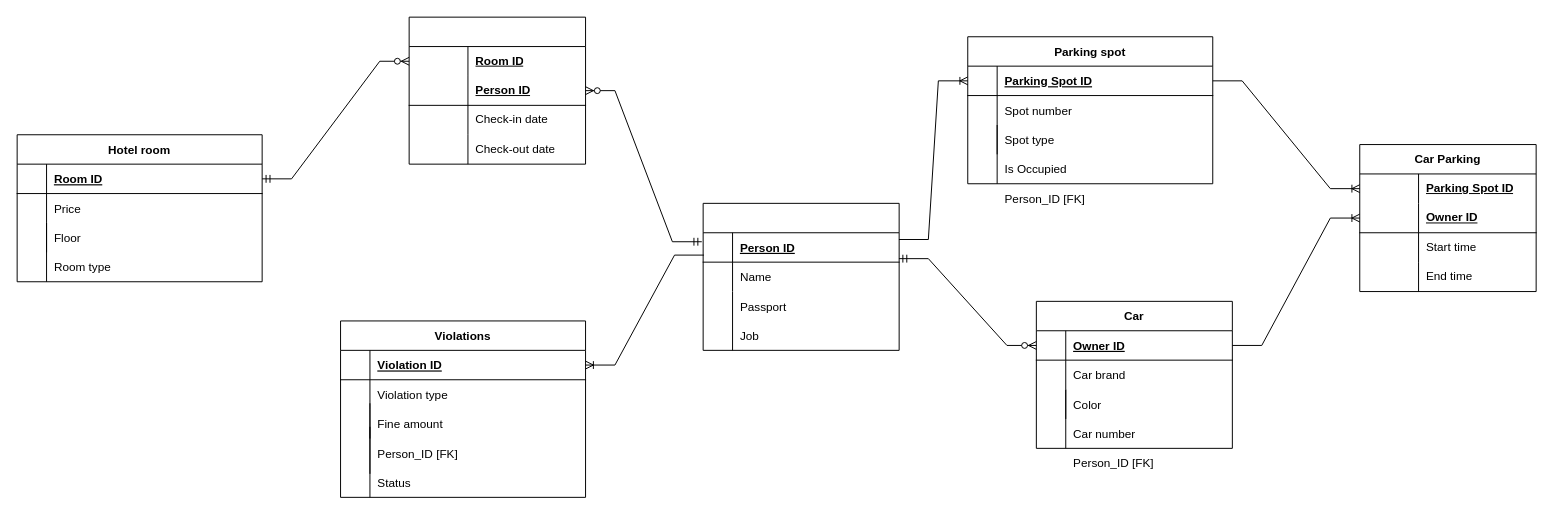
Image size: 1553x515. Some labels were removed from this diagram. The box of each missing label's shape, as (x1, y1, x2, y2) in pixels:
Booking: (408, 16, 586, 164)
People: (702, 202, 899, 350)
